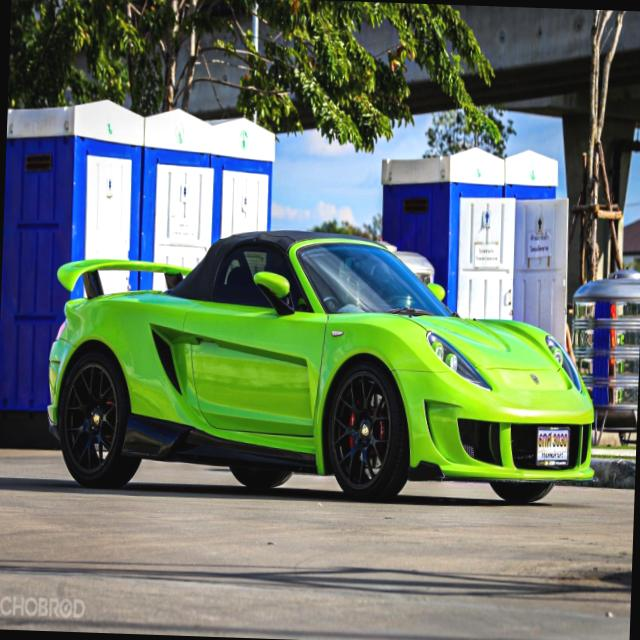license_plate: (533, 423, 570, 470)
